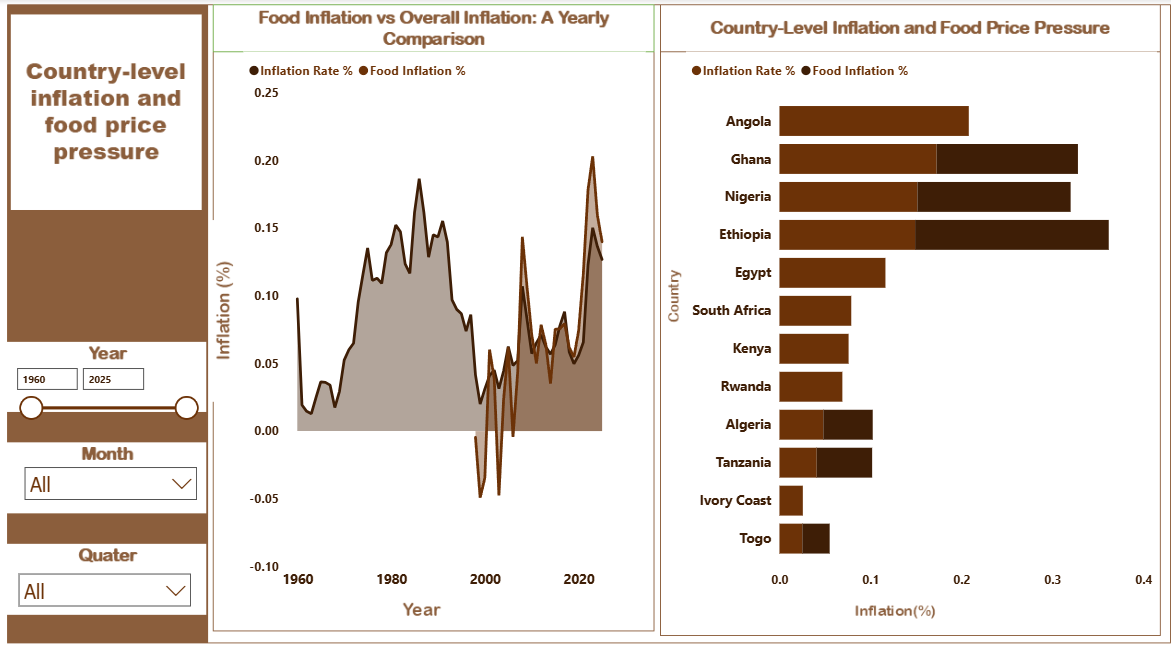

The dashboard page shown, as its layout file describes it:
{"tool":"powerbi","page":{"name":"Page 3","canvas":[1280,720],"ordinal":2},"visuals":[{"type":"areaChart","title":"Food Inflation vs Overall Inflation: A Yearly Comparison","fields":{"Category":["Calendar.Year"],"Y":["kpi_1.Inflation Rate %","kpi_1.Food Inflation %"]},"box":[265.1,56.9,435.9,592.1],"z":0},{"type":"barChart","title":"Country-Level Inflation and Food Price Pressure","fields":{"Category":["Dim_Country.Country"],"Y":["kpi_1.Inflation Rate %","kpi_1.Food Inflation %"]},"box":[745,56.9,510.7,592.1],"z":1000},{"type":"slicer","fields":{"Values":["Calendar.Year"]},"box":[6.5,390.4,218,71.6],"z":2000},{"type":"slicer","fields":{"Values":["Calendar.Month"]},"box":[17.9,497.7,206.6,53.7],"z":3000},{"type":"slicer","fields":{"Values":["Calendar.Quarter"]},"box":[11.4,613.2,206.6,53.7],"z":4000}]}

Visuals, with their boxes in screenshot pixels (x1, y1, x2, y2), scaled from the page's 1280x720 canvas onto the 1171x645 screenshot:
"Food Inflation vs Overall Inflation: A Yearly Comparison" areaChart: crop(243, 51, 641, 581)
"Country-Level Inflation and Food Price Pressure" barChart: crop(682, 51, 1149, 581)
slicer - Calendar.Year: crop(6, 350, 205, 414)
slicer - Calendar.Month: crop(16, 446, 205, 494)
slicer - Calendar.Quarter: crop(10, 549, 199, 597)
